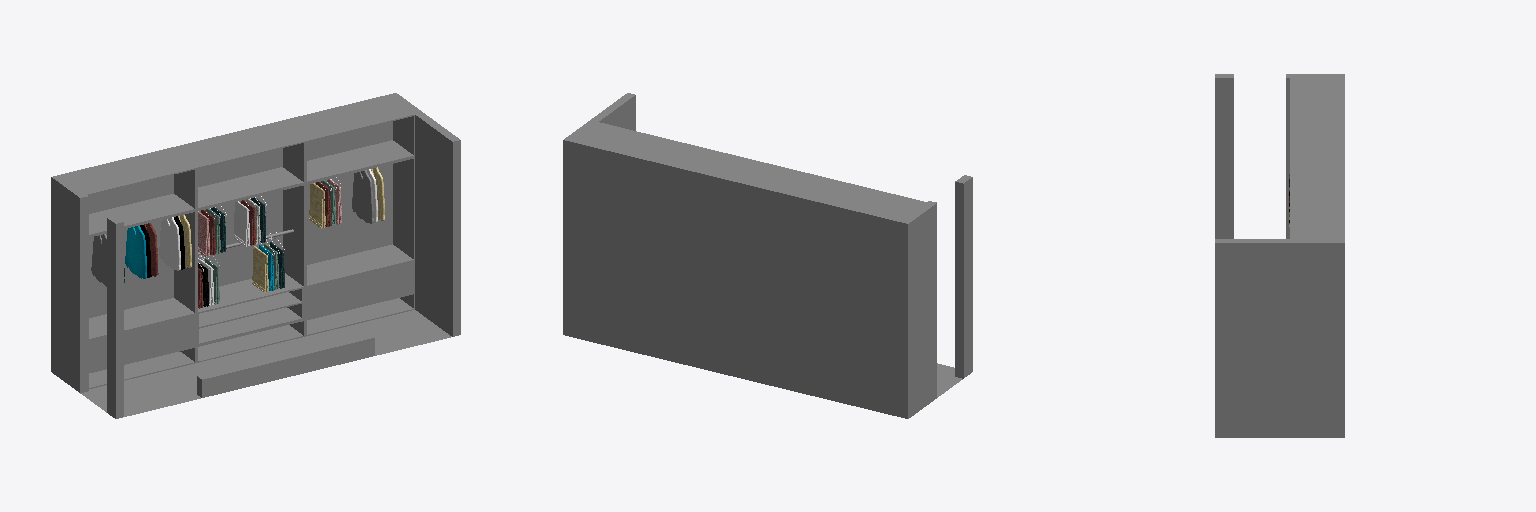
The picture shows the model from 3 angles: view 1: azimuth 30°, elevation 25°; view 2: azimuth 150°, elevation 25°; view 3: azimuth 270°, elevation 25°; orthographic projection.
Parts seen in each view (by area): view 1: armario; view 2: armario; view 3: armario.
Boxes of the visible parts, <box> form: armario: <box>51,93,460,418</box>; armario: <box>563,93,972,418</box>; armario: <box>1215,74,1344,437</box>.
Size of the model in its own units: 58.61 by 31.68 by 19.01.
14 materials, 10 textured.